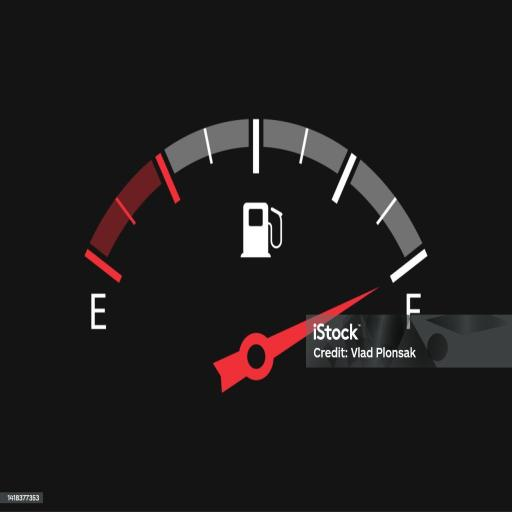empty: (87, 289, 110, 336)
fuel_icon: (238, 198, 282, 263)
full: (404, 292, 428, 334)
guage_area: (80, 111, 439, 405)
needle_center: (232, 326, 284, 388)
needle_tip: (362, 280, 383, 305)
